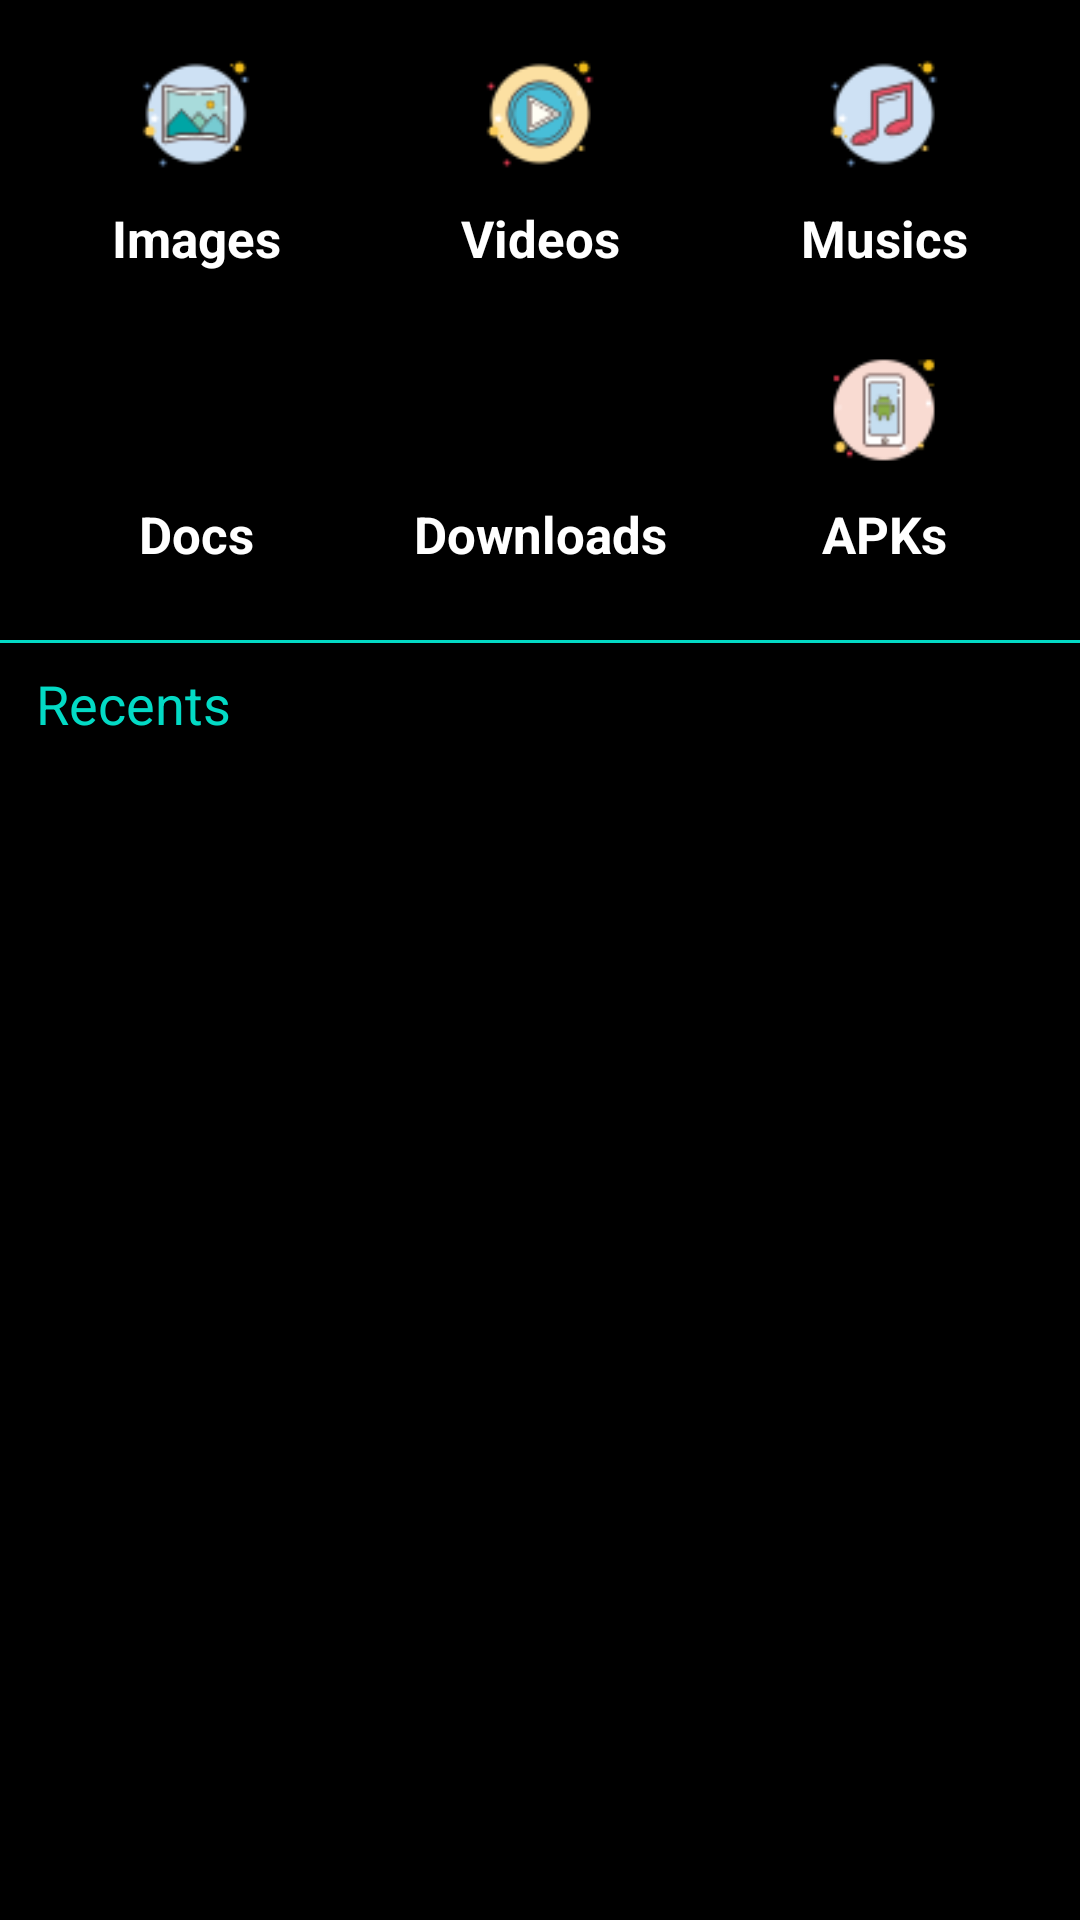

Icon bounding boxes for this 1080w x 1920h phone screenshot, format (x1, y1, x2, y2):
play: (486, 60, 593, 167)
